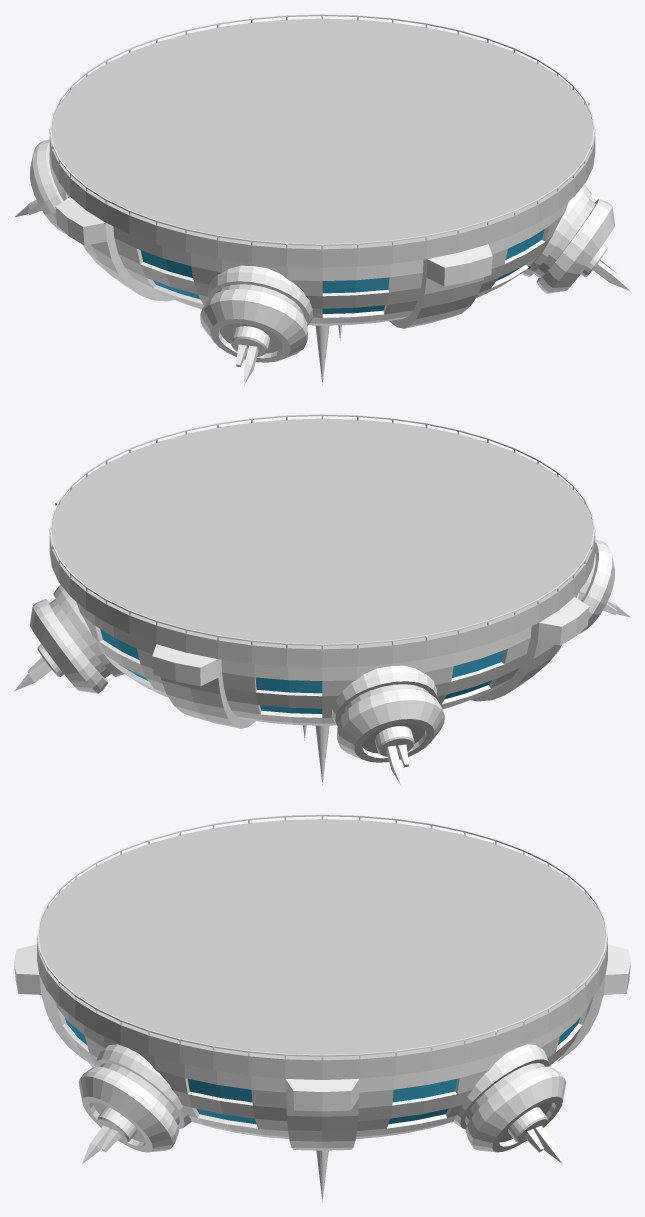
The model's file is Chroma Floating Platform Large.fbx.
The picture shows the model from 3 angles, top to bottom: view 1: azimuth 30°, elevation 25°; view 2: azimuth 150°, elevation 25°; view 3: azimuth 270°, elevation 25°; orthographic projection. The views are drawn at different scales.
Parts seen in each view (by area): view 1: Platform, Platform Rails; view 2: Platform, Platform Rails; view 3: Platform, Platform Rails.
Boxes of the visible parts, <box> form: Platform: <box>14,18,630,385</box>; Platform Rails: <box>49,14,595,249</box>; Platform: <box>14,418,630,785</box>; Platform Rails: <box>49,414,595,649</box>; Platform: <box>14,819,630,1202</box>; Platform Rails: <box>37,814,607,1060</box>.
Bounding box in the file's own units: 670 × 321 × 670.
